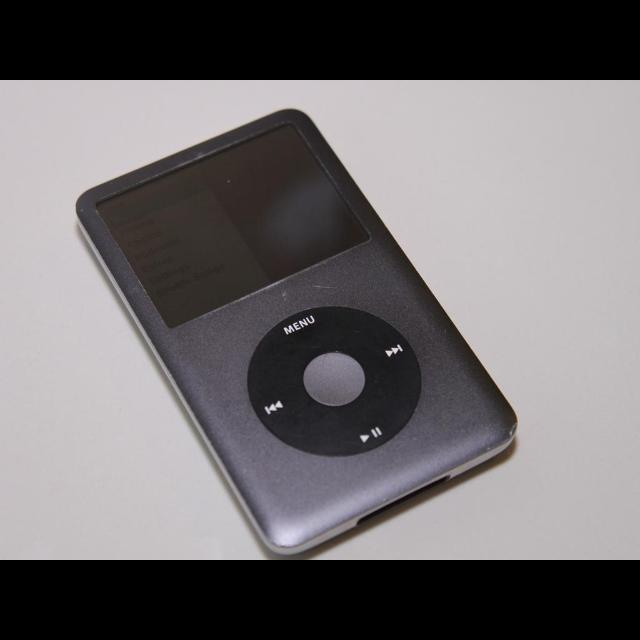Music-Player: (68, 105, 528, 547)
